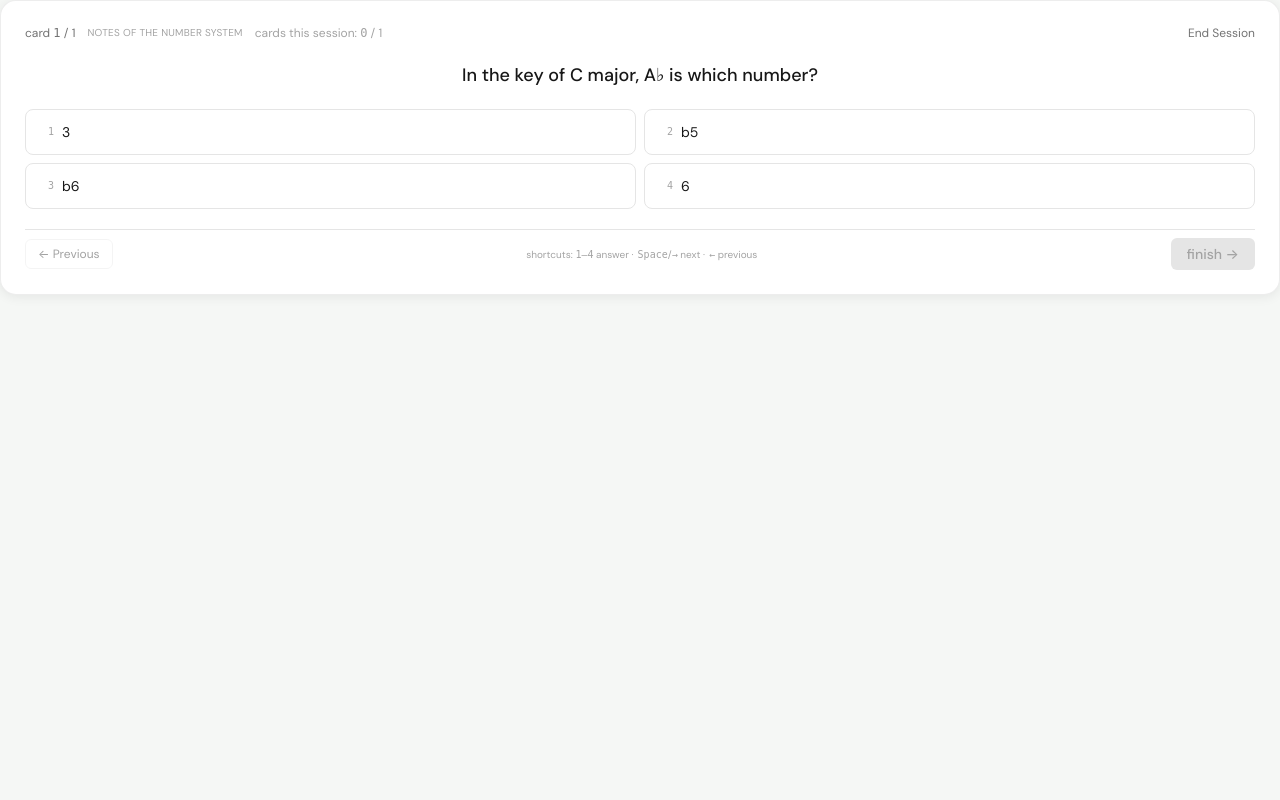
it: the reveal › is offered on the note→degree direction too
This screenshot has width=1280, height=800.
Click the button "3 b6": click(51, 186) [25,163,636,209]
(page scrolled)
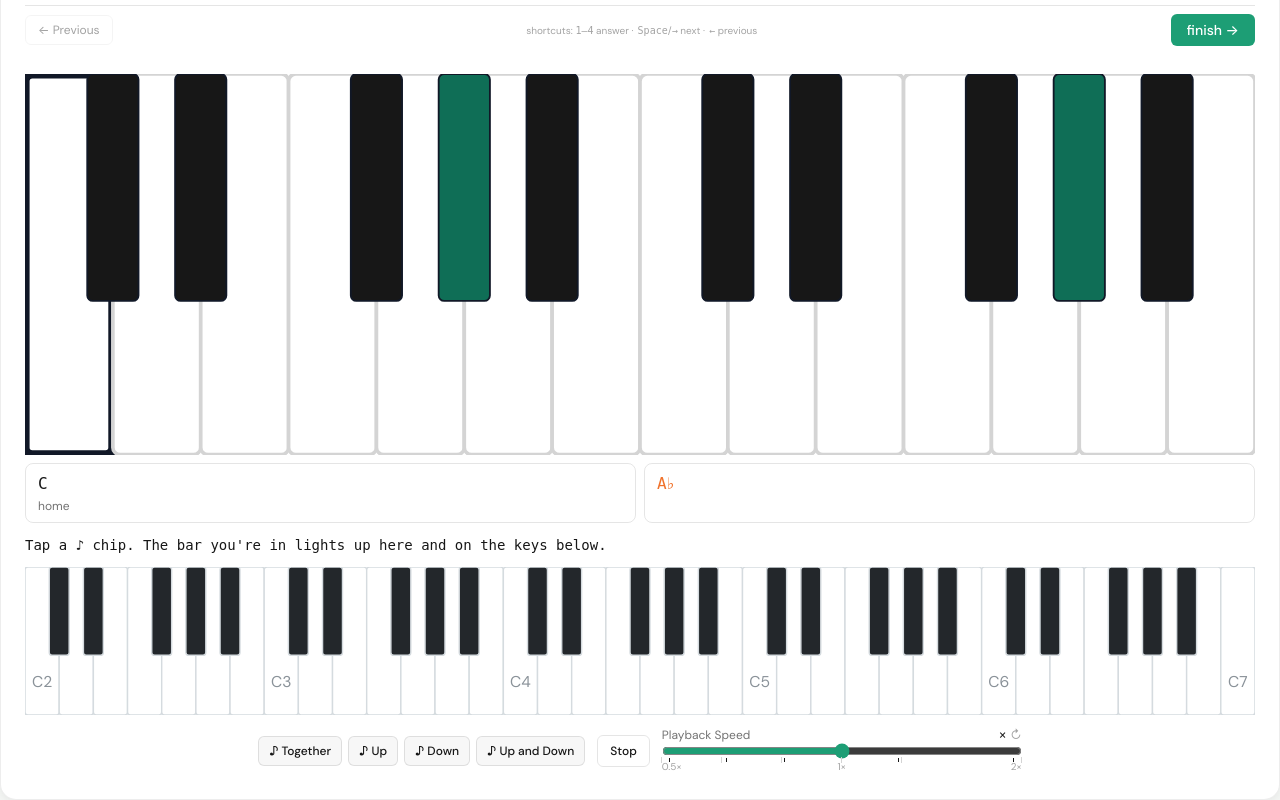
Expected: the element with test id "degree-note-reveal" is shown
